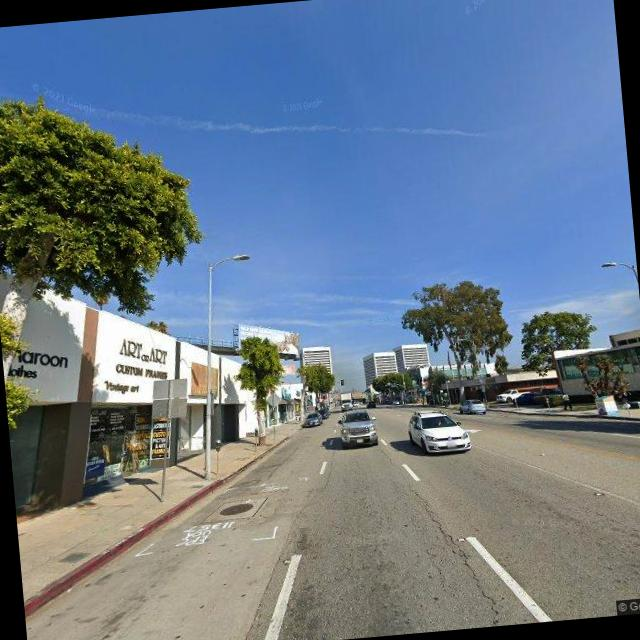pothole: (406, 478, 508, 632)
